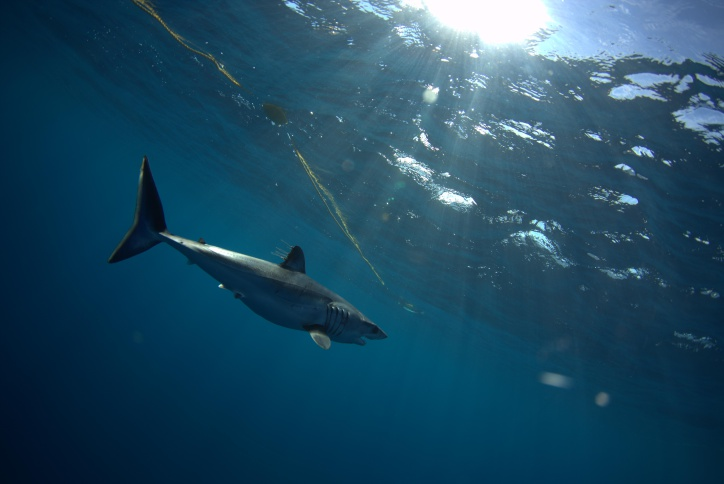Mako: (87, 140, 395, 373)
